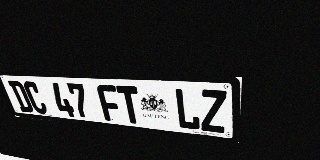4: (48, 82, 76, 117)
7: (65, 83, 93, 119)
C: (22, 81, 49, 114)
D: (7, 80, 35, 113)
F: (96, 84, 123, 122)
L: (174, 88, 201, 131)
T: (116, 85, 143, 124)
Z: (200, 89, 227, 133)
